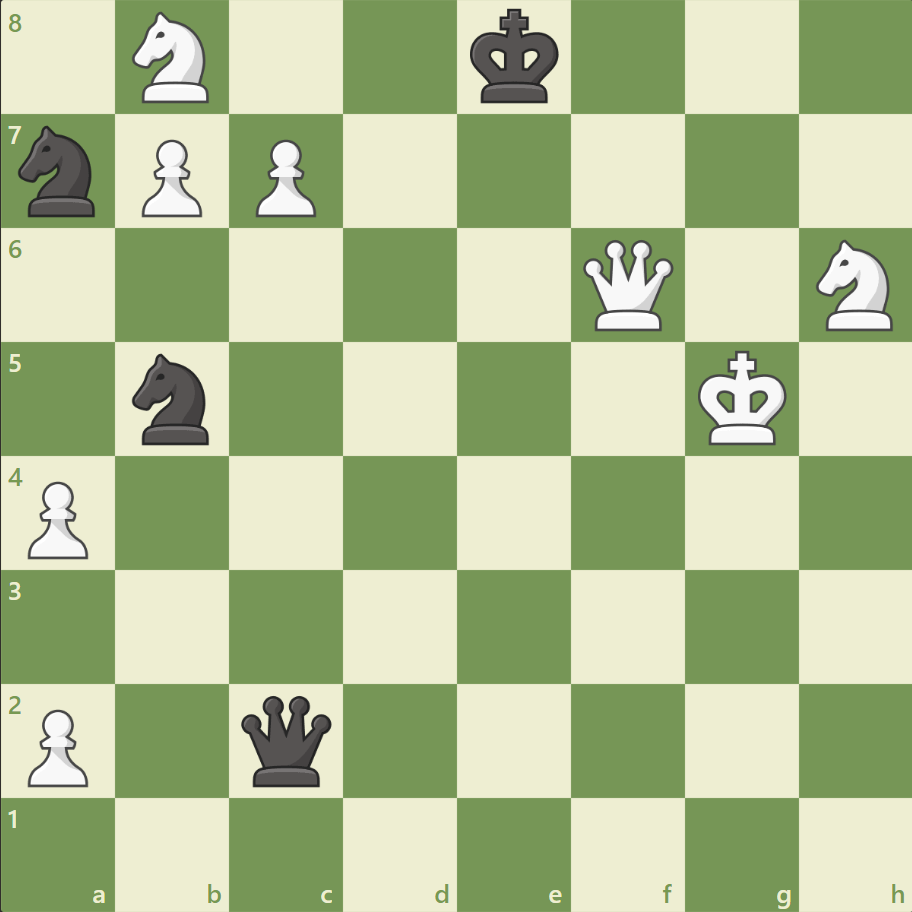K: (692, 344, 792, 452)
N: (124, 7, 222, 110), (806, 234, 903, 337)
P: (133, 132, 208, 223), (247, 132, 322, 223), (20, 473, 95, 564), (20, 700, 95, 791)
Q: (578, 236, 677, 335)
k: (465, 4, 565, 112)
n: (124, 348, 222, 450), (11, 121, 108, 223)
q: (237, 690, 336, 789)
